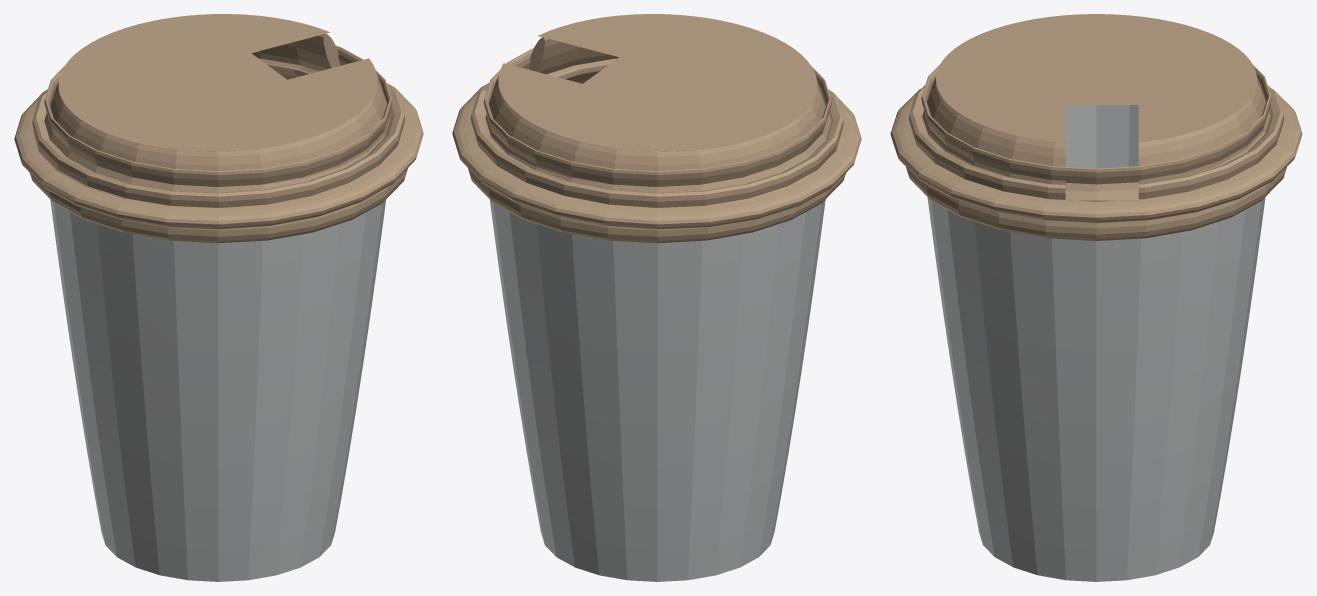
File: Cafe.glb
The picture shows the model from 3 angles, left to right: view 1: azimuth 30°, elevation 25°; view 2: azimuth 150°, elevation 25°; view 3: azimuth 270°, elevation 25°; orthographic projection.
Visible parts, largest first — view 1: Mesh_Mesh_head_geo.001_lambert2SG.001; view 2: Mesh_Mesh_head_geo.001_lambert2SG.001; view 3: Mesh_Mesh_head_geo.001_lambert2SG.001.
Part boxes in pixels (left/top/right/bottom): Mesh_Mesh_head_geo.001_lambert2SG.001: left=14, top=14, right=423, bottom=581; Mesh_Mesh_head_geo.001_lambert2SG.001: left=452, top=14, right=861, bottom=581; Mesh_Mesh_head_geo.001_lambert2SG.001: left=890, top=14, right=1302, bottom=581.
Size of the model in its own units: 28.22 by 34.41 by 28.22.
